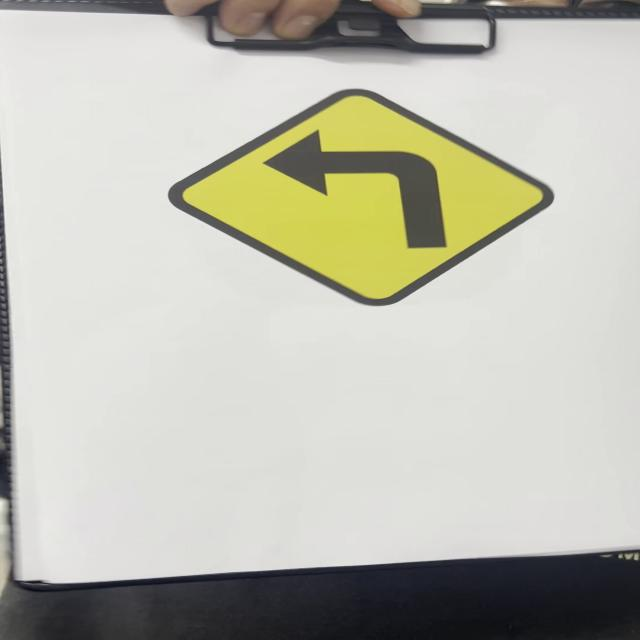left: (173, 88, 550, 307)
